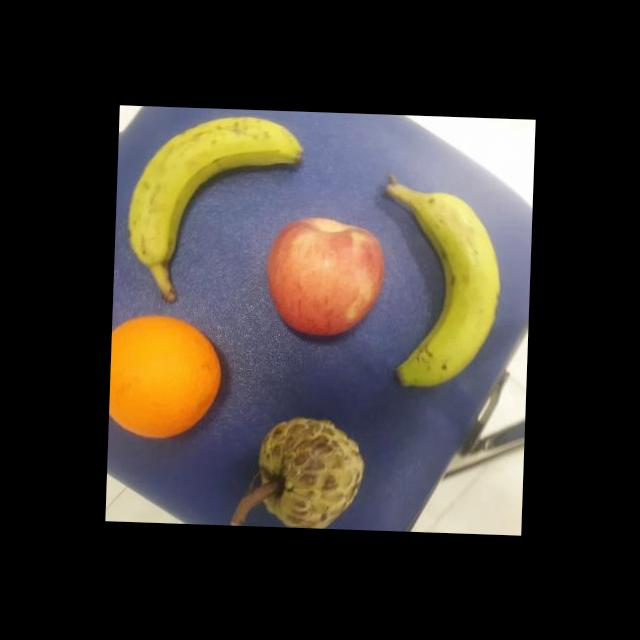Sakya fruit: (256, 414, 366, 530)
apple: (261, 212, 390, 341)
banana: (122, 110, 304, 310), (379, 174, 506, 390)
orange: (108, 311, 224, 442)
